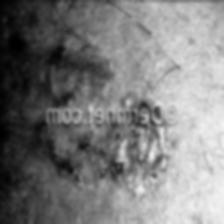Potentially Malignant Skin Tumors: (42, 44, 166, 196)
